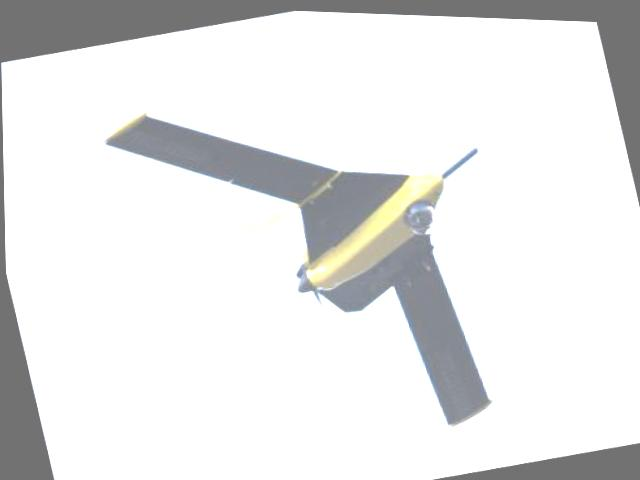uav: (92, 50, 499, 480)
